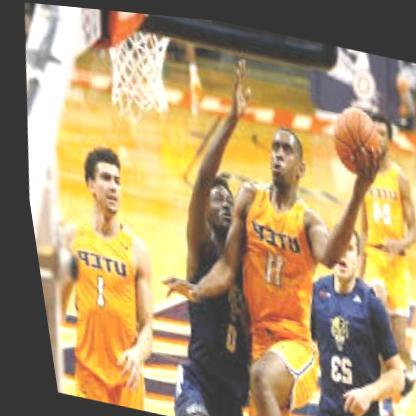basketball: (321, 95, 384, 175)
